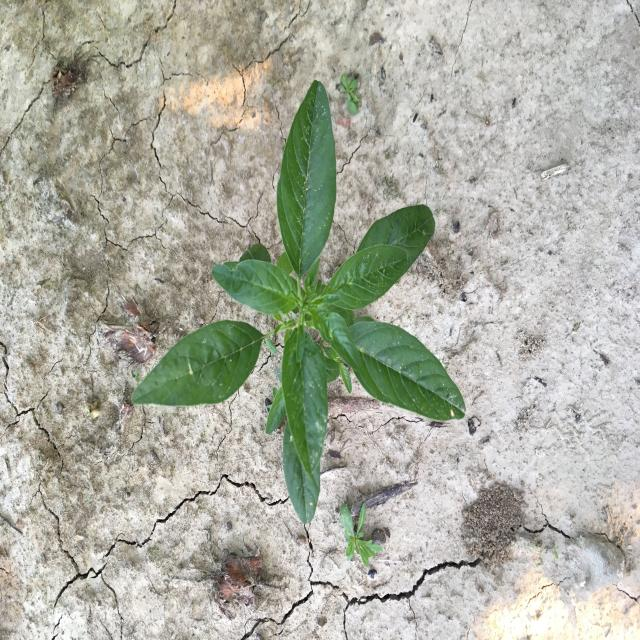Carpetweed: (338, 500, 384, 569), (338, 71, 363, 117)
Waterhemp: (128, 76, 468, 532)
